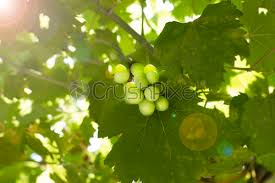grapes: (104, 52, 178, 116)
